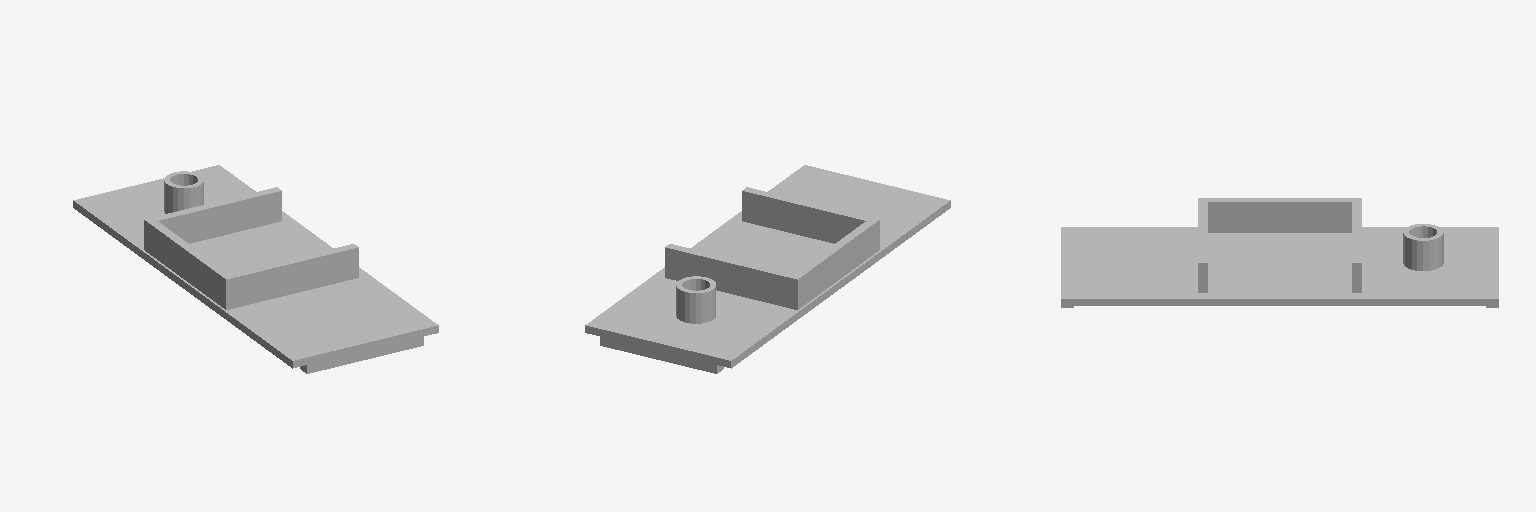
Rendered from ванна для nema движка.obj.
3 renders of one model, left to right at view 1: azimuth 30°, elevation 25°; view 2: azimuth 150°, elevation 25°; view 3: azimuth 270°, elevation 25°, orthographic.
Visible parts, largest first — view 1: Твердое тело1; view 2: Твердое тело1; view 3: Твердое тело1.
Boxes of the visible parts, x1=… form: Твердое тело1: x1=73, y1=165, x2=438, y2=373; Твердое тело1: x1=585, y1=165, x2=950, y2=373; Твердое тело1: x1=1061, y1=198, x2=1498, y2=307.
Bounding box in the file's own units: 50 × 15.5 × 130.